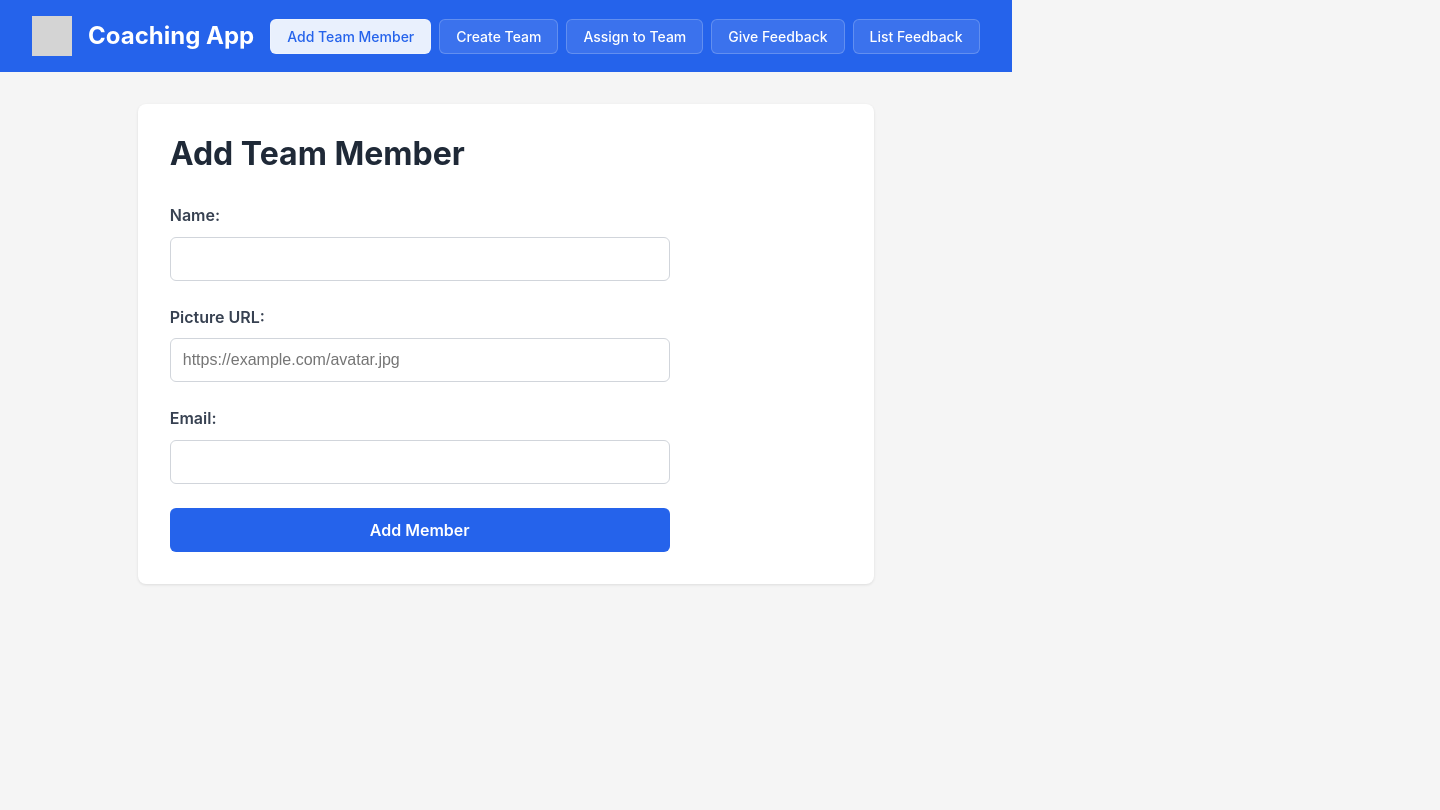
it: Integration Tests - Basic Workflows › should show appropriate messages for empty states
This screenshot has width=1440, height=810.
Click the button "Assign to Team".
click(635, 36)  # box top-left (566, 18), bottom-right (703, 54)
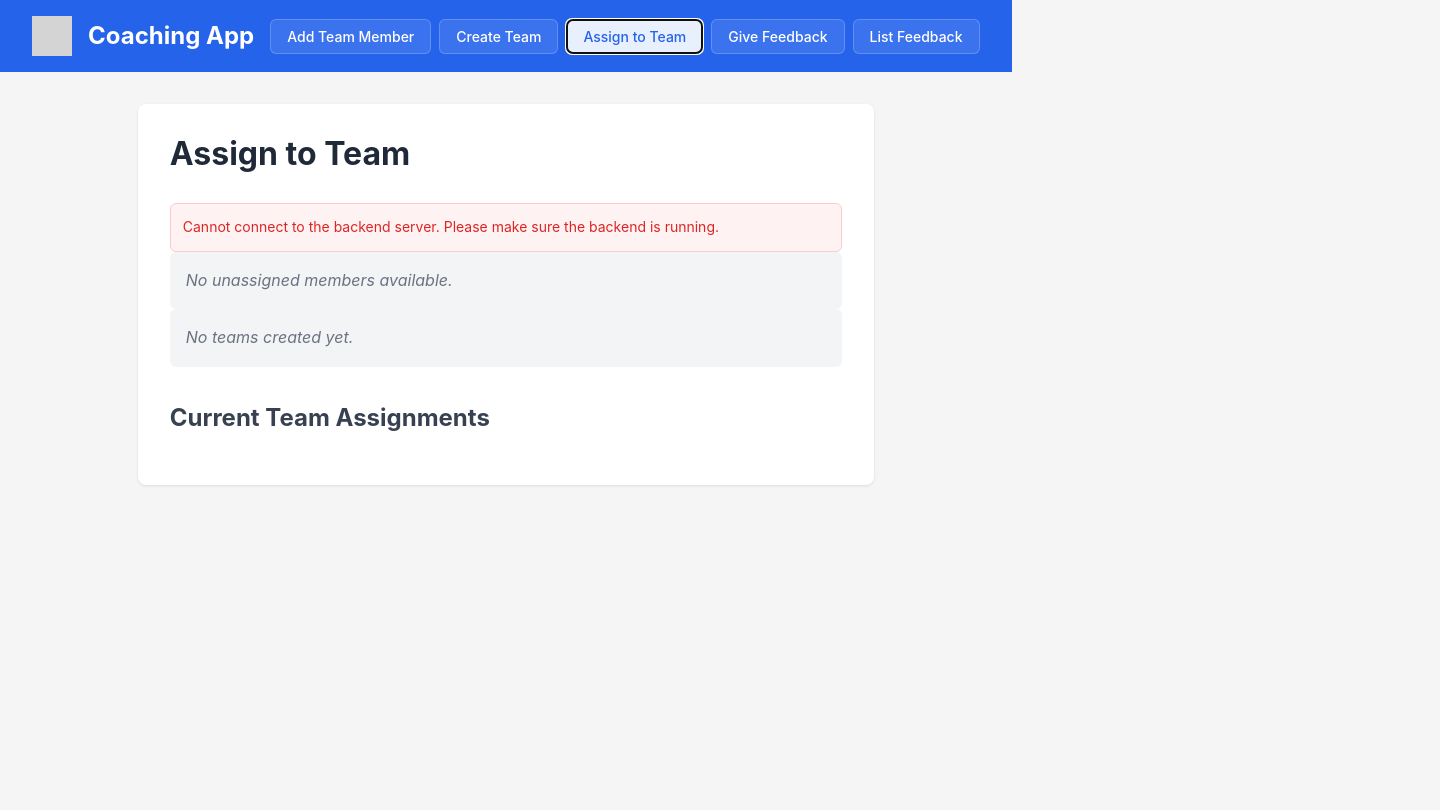
Now the text "No unassigned members available." is shown, box top-left (170, 252), bottom-right (842, 309)
Now the text "No teams created yet." is shown, box top-left (170, 309), bottom-right (842, 367)
Click the button "Give Feedback".
click(778, 36)  # box top-left (711, 18), bottom-right (844, 54)
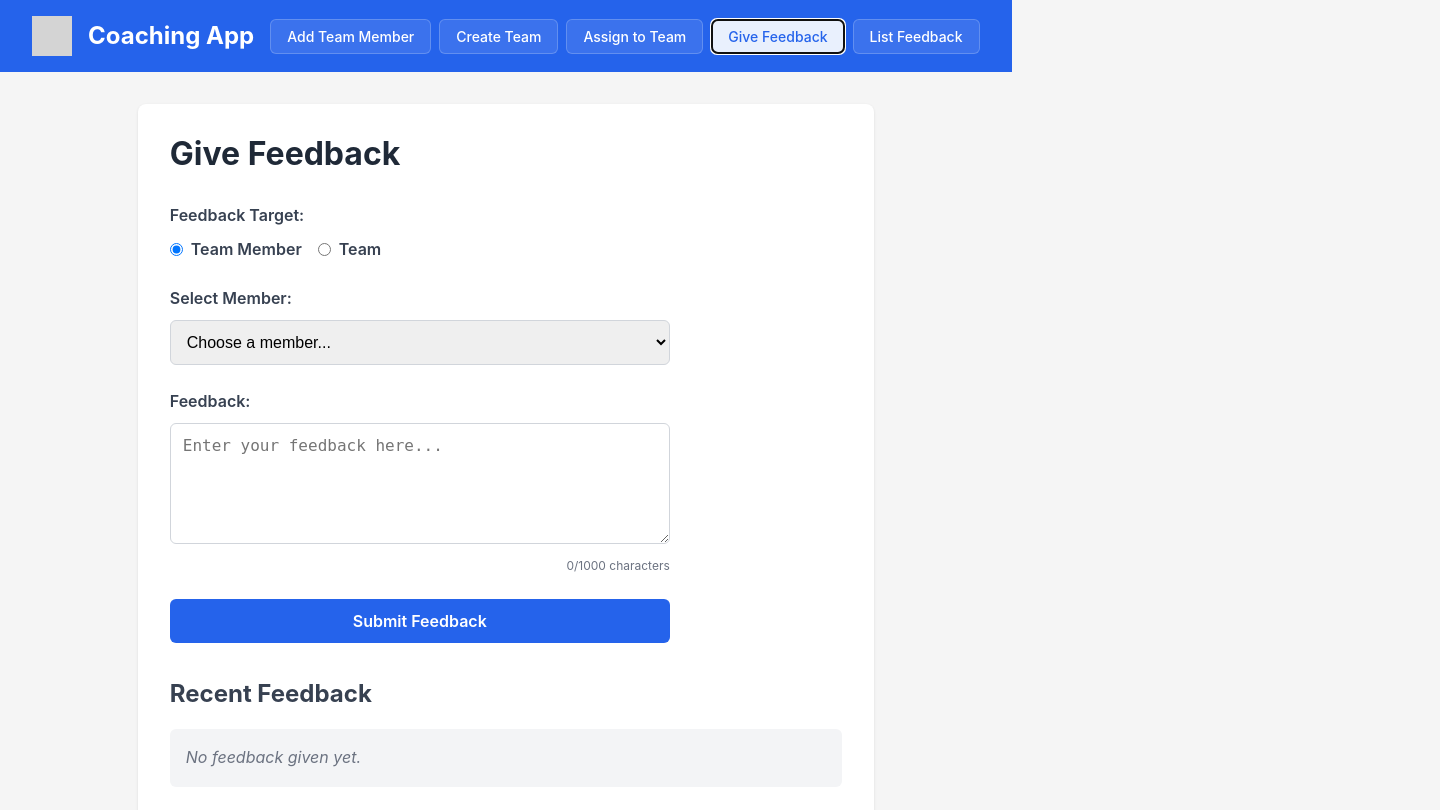
Now the text "No feedback given yet." is shown, box top-left (170, 729), bottom-right (842, 787)
